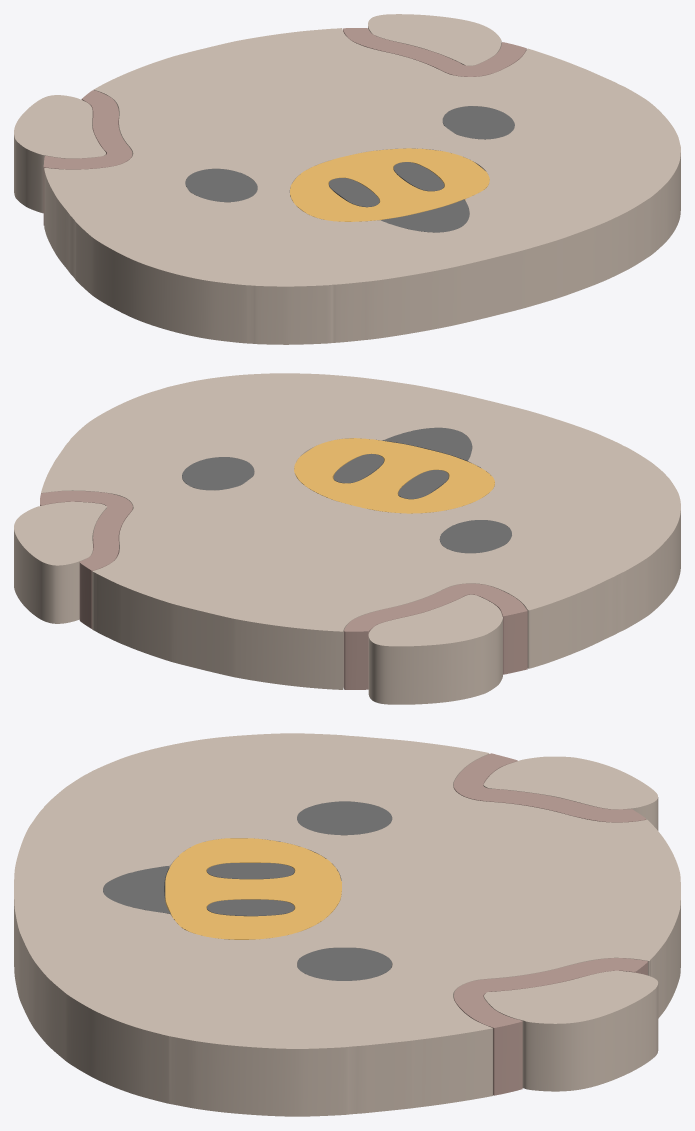
Rendered from porcoDAE.dae.
3 renders of one model, top to bottom at view 1: azimuth 30°, elevation 25°; view 2: azimuth 150°, elevation 25°; view 3: azimuth 270°, elevation 25°, orthographic. The views are drawn at different scales.
Visible parts, largest first — view 1: porco; view 2: porco; view 3: porco.
Part boxes in pixels (<box>): porco: <box>14,14,680,344</box>; porco: <box>14,373,680,704</box>; porco: <box>14,733,680,1116</box>.
Bounding box in the file's own units: 100 × 89.28 × 10.
